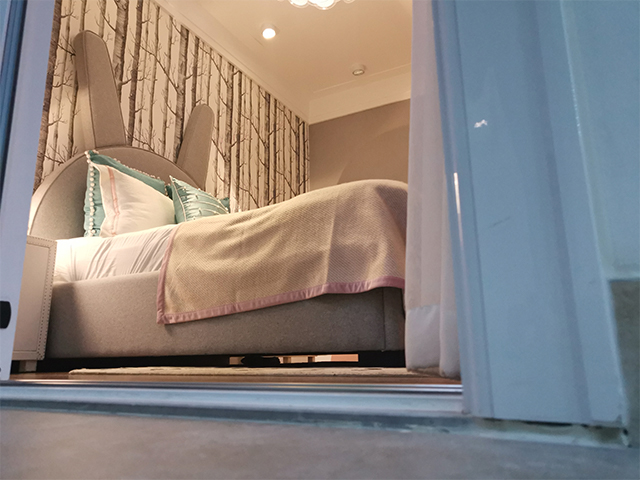bed: (28, 29, 408, 366)
cabinet: (12, 234, 59, 375)
carpet: (66, 364, 422, 377)
curtain: (401, 1, 463, 385)
